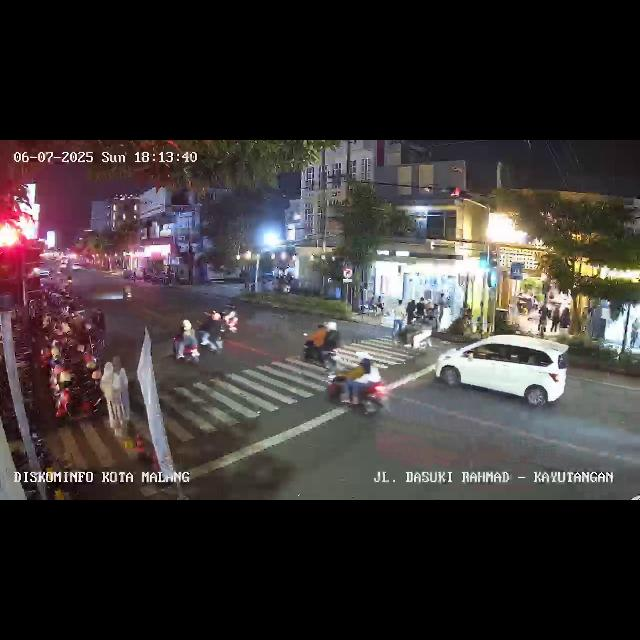car: (436, 334, 570, 410)
motorcycle: (323, 352, 389, 421), (300, 318, 344, 370), (172, 318, 202, 367), (196, 310, 224, 358), (394, 316, 431, 352), (220, 302, 240, 338), (120, 283, 134, 303)
person: (112, 354, 128, 426), (102, 362, 116, 434), (393, 299, 405, 331), (559, 304, 571, 334), (536, 304, 548, 334), (432, 301, 441, 333), (406, 298, 416, 324), (548, 302, 556, 334), (631, 318, 639, 350), (439, 292, 445, 322), (417, 299, 425, 317)
